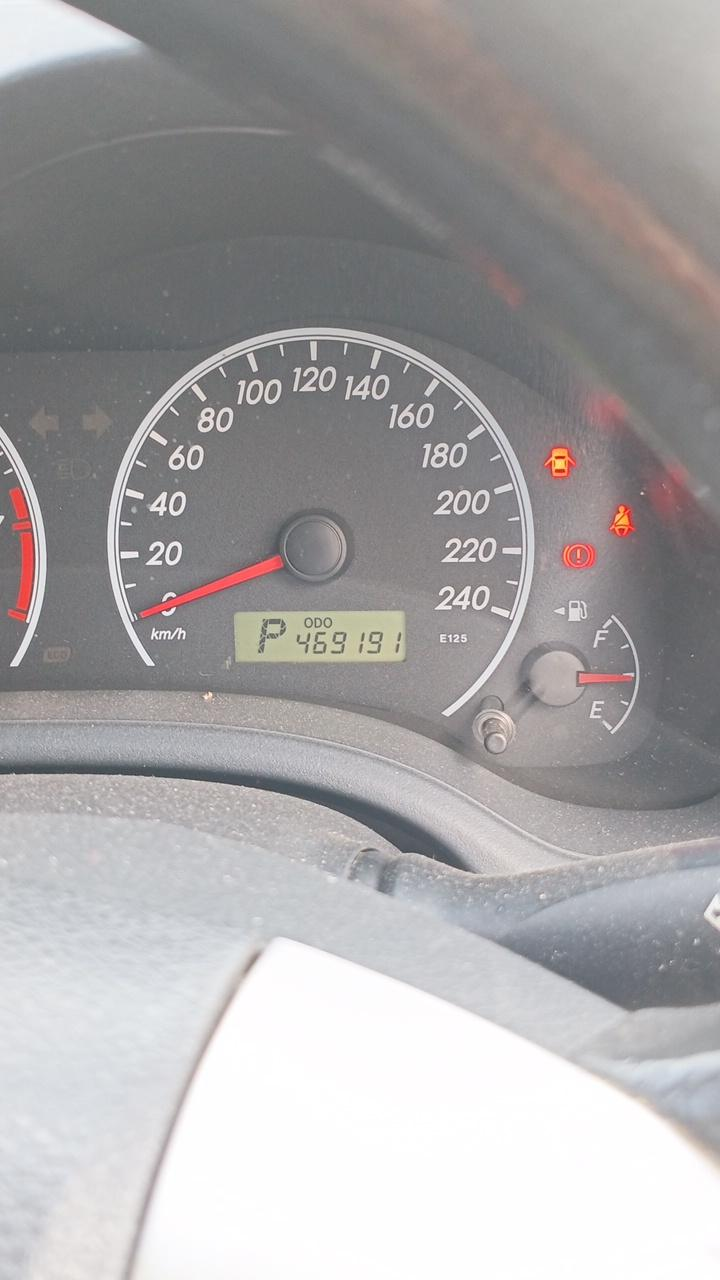1: (357, 631, 366, 654), (394, 631, 402, 653)
4: (296, 632, 311, 654)
6: (312, 631, 327, 654)
9: (330, 631, 347, 655), (367, 631, 384, 654)
X: (257, 617, 287, 654), (304, 617, 313, 628), (314, 617, 322, 628), (324, 617, 332, 628)
odometer: (233, 611, 406, 663)
